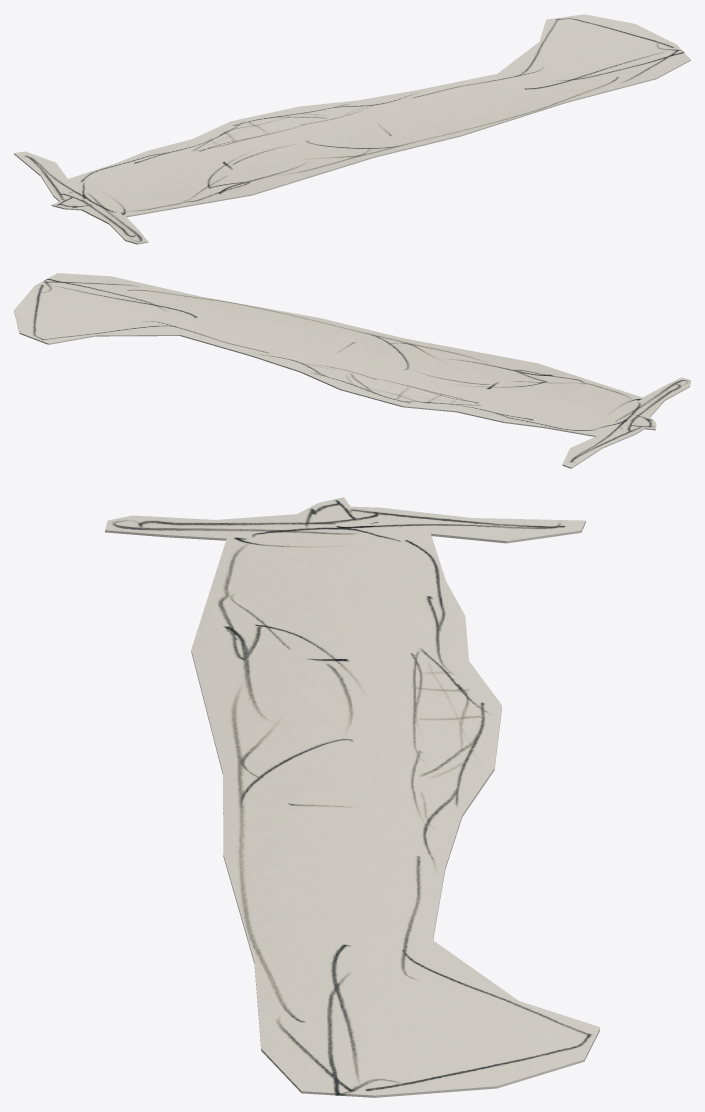
File: senntouki.fbx
The picture shows the model from 3 angles, top to bottom: view 1: azimuth 30°, elevation 25°; view 2: azimuth 150°, elevation 25°; view 3: azimuth 270°, elevation 25°; orthographic projection. The views are drawn at different scales.
Parts seen in each view (by area): view 1: Plane; view 2: Plane; view 3: Plane.
Part boxes in pixels (x1,y1,x2,y2): Plane: [14, 14, 690, 244]; Plane: [14, 273, 690, 468]; Plane: [105, 497, 599, 1097].
Size of the model in its own units: 1190 by 2.12 by 416.
1 material, 1 textured.
